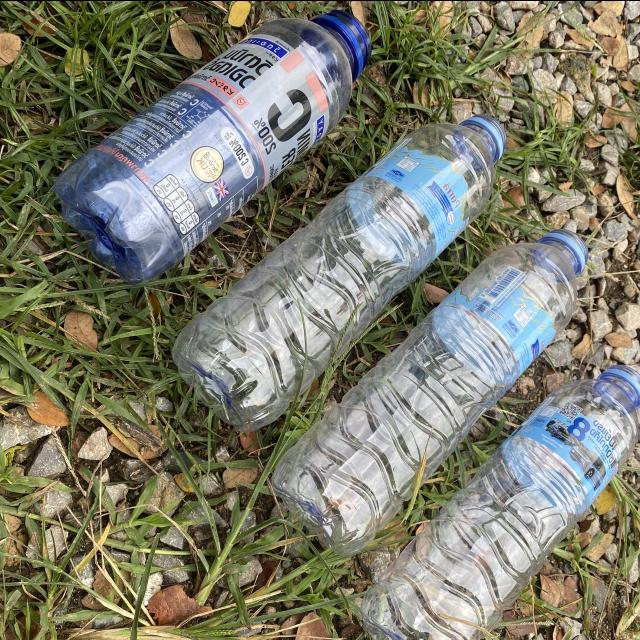plastik: (172, 115, 505, 430), (272, 230, 588, 554), (55, 10, 371, 283), (361, 364, 640, 640)
